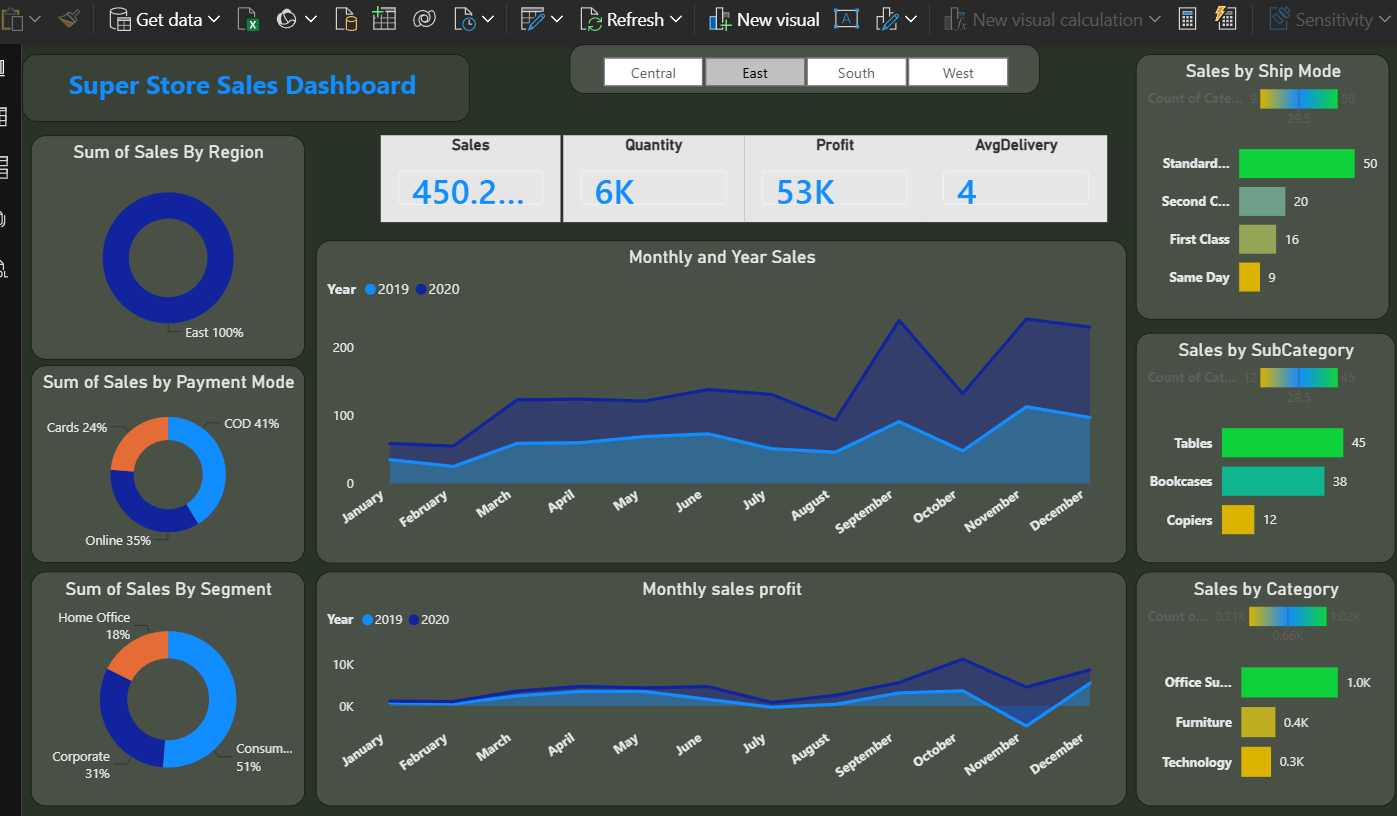

Layout of this report page (visuals, bound fields, positions):
{"tool":"powerbi","page":{"name":"Page 1","canvas":[1280,720],"ordinal":0},"visuals":[{"type":"clusteredBarChart","title":"Sales by Category","fields":{"Category":["SuperStore_Sales_Dataset csv.Category"],"Y":["CountNonNull(SuperStore_Sales_Dataset csv.Sales)"]},"box":[1036,491.3,241.5,218.2],"z":0},{"type":"clusteredBarChart","title":"Sales by SubCategory","fields":{"Category":["SuperStore_Sales_Dataset csv.Sub-Category"],"Y":["CountNonNull(SuperStore_Sales_Dataset csv.Sales)"]},"box":[1036,269,241.5,214.1],"z":1000},{"type":"clusteredBarChart","title":"Sales by Ship Mode","fields":{"Y":["CountNonNull(SuperStore_Sales_Dataset csv.Sales)"],"Category":["SuperStore_Sales_Dataset csv.Ship Mode"]},"box":[1036,9.6,236,247],"z":2000},{"type":"stackedAreaChart","title":"Monthly and Year Sales","fields":{"Y":["CountNonNull(SuperStore_Sales_Dataset csv.Sales)"],"Category":["SuperStore_Sales_Dataset csv.Order Date.Variation.Date Hierarchy.Month","SuperStore_Sales_Dataset csv.Order Date.Variation.Date Hierarchy.Day"],"Series":["SuperStore_Sales_Dataset csv.Order Date.Variation.Date Hierarchy.Year"]},"box":[272.7,182.6,754.7,300.6],"z":3000},{"type":"stackedAreaChart","title":"Monthly sales profit","fields":{"Category":["SuperStore_Sales_Dataset csv.Order Date.Variation.Date Hierarchy.Month","SuperStore_Sales_Dataset csv.Order Date.Variation.Date Hierarchy.Day"],"Series":["SuperStore_Sales_Dataset csv.Order Date.Variation.Date Hierarchy.Year"],"Y":["Sum(SuperStore_Sales_Dataset csv.Profit)"]},"box":[272.7,490.9,754.7,218.2],"z":4000},{"type":"donutChart","title":"Sum of Sales By Segment","fields":{"Category":["SuperStore_Sales_Dataset csv.Segment"],"Y":["CountNonNull(SuperStore_Sales_Dataset csv.Sales)"]},"box":[8.2,491.3,255.2,218.2],"z":5000},{"type":"donutChart","title":"Sum of Sales by Payment Mode","fields":{"Category":["SuperStore_Sales_Dataset csv.Payment Mode"],"Y":["CountNonNull(SuperStore_Sales_Dataset csv.Sales)"]},"box":[8.2,299.1,255.2,183.9],"z":6000},{"type":"donutChart","title":"Sum of Sales By Region","fields":{"Category":["SuperStore_Sales_Dataset csv.Region"],"Y":["Sum(SuperStore_Sales_Dataset csv.Sales)"]},"box":[8.2,85.1,255.2,208.6],"z":7000},{"type":"slicer","fields":{"Values":["SuperStore_Sales_Dataset csv.Region"]},"box":[509.1,0,437.7,46.7],"z":8000},{"type":"textbox","box":[0,9.6,417.2,63.1],"z":9000},{"type":"cardVisual","title":"Sales","fields":{"Data":["Sum(SuperStore_Sales_Dataset csv.Sales)"]},"box":[333.4,85.1,167.4,81],"z":10000},{"type":"cardVisual","title":"Quantity","fields":{"Data":["Sum(SuperStore_Sales_Dataset csv.Quantity)"]},"box":[503.6,85.1,168.8,81],"z":11000},{"type":"cardVisual","title":"Profit","fields":{"Data":["Sum(SuperStore_Sales_Dataset csv.Profit)"]},"box":[672.4,85.1,168.8,81],"z":12000},{"type":"cardVisual","title":"AvgDelivery","fields":{"Data":["Avg(SuperStore_Sales_Dataset csv.AvgDelivery)"]},"box":[841.2,85.1,168.8,81],"z":13000}]}

Visuals, with their boxes on the page's 1280x720 design canvas (x1, y1, x2, y2). These are canvas units, not pixel positions in the 1397x816 screenshot, which may show the page scaled, cropped or inside an application window:
"Sales by Category" clusteredBarChart: <region>1036, 491, 1278, 710</region>
"Sales by SubCategory" clusteredBarChart: <region>1036, 269, 1278, 483</region>
"Sales by Ship Mode" clusteredBarChart: <region>1036, 10, 1272, 257</region>
"Monthly and Year Sales" stackedAreaChart: <region>273, 183, 1027, 483</region>
"Monthly sales profit" stackedAreaChart: <region>273, 491, 1027, 709</region>
"Sum of Sales By Segment" donutChart: <region>8, 491, 263, 710</region>
"Sum of Sales by Payment Mode" donutChart: <region>8, 299, 263, 483</region>
"Sum of Sales By Region" donutChart: <region>8, 85, 263, 294</region>
slicer - SuperStore_Sales_Dataset csv.Region: <region>509, 0, 947, 47</region>
textbox: <region>0, 10, 417, 73</region>
"Sales" cardVisual: <region>333, 85, 501, 166</region>
"Quantity" cardVisual: <region>504, 85, 672, 166</region>
"Profit" cardVisual: <region>672, 85, 841, 166</region>
"AvgDelivery" cardVisual: <region>841, 85, 1010, 166</region>
